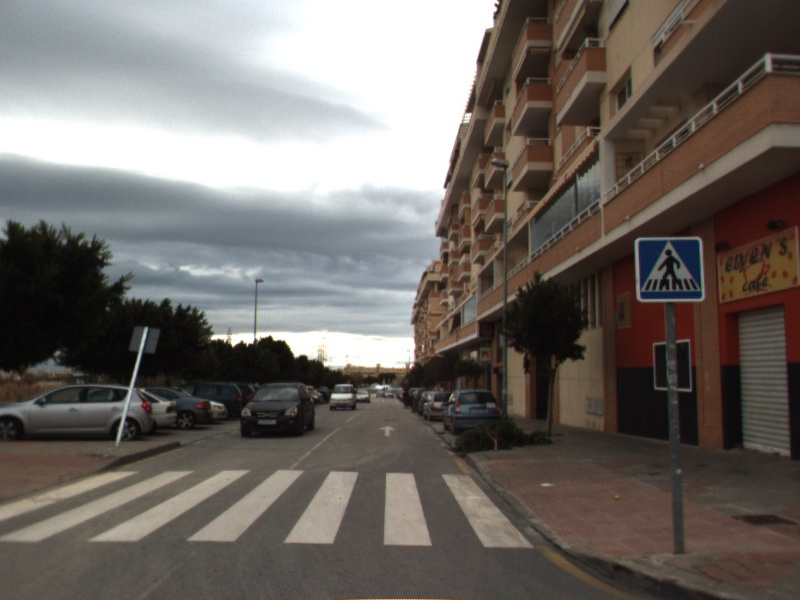STRAIGHT: (376, 423, 398, 438)
